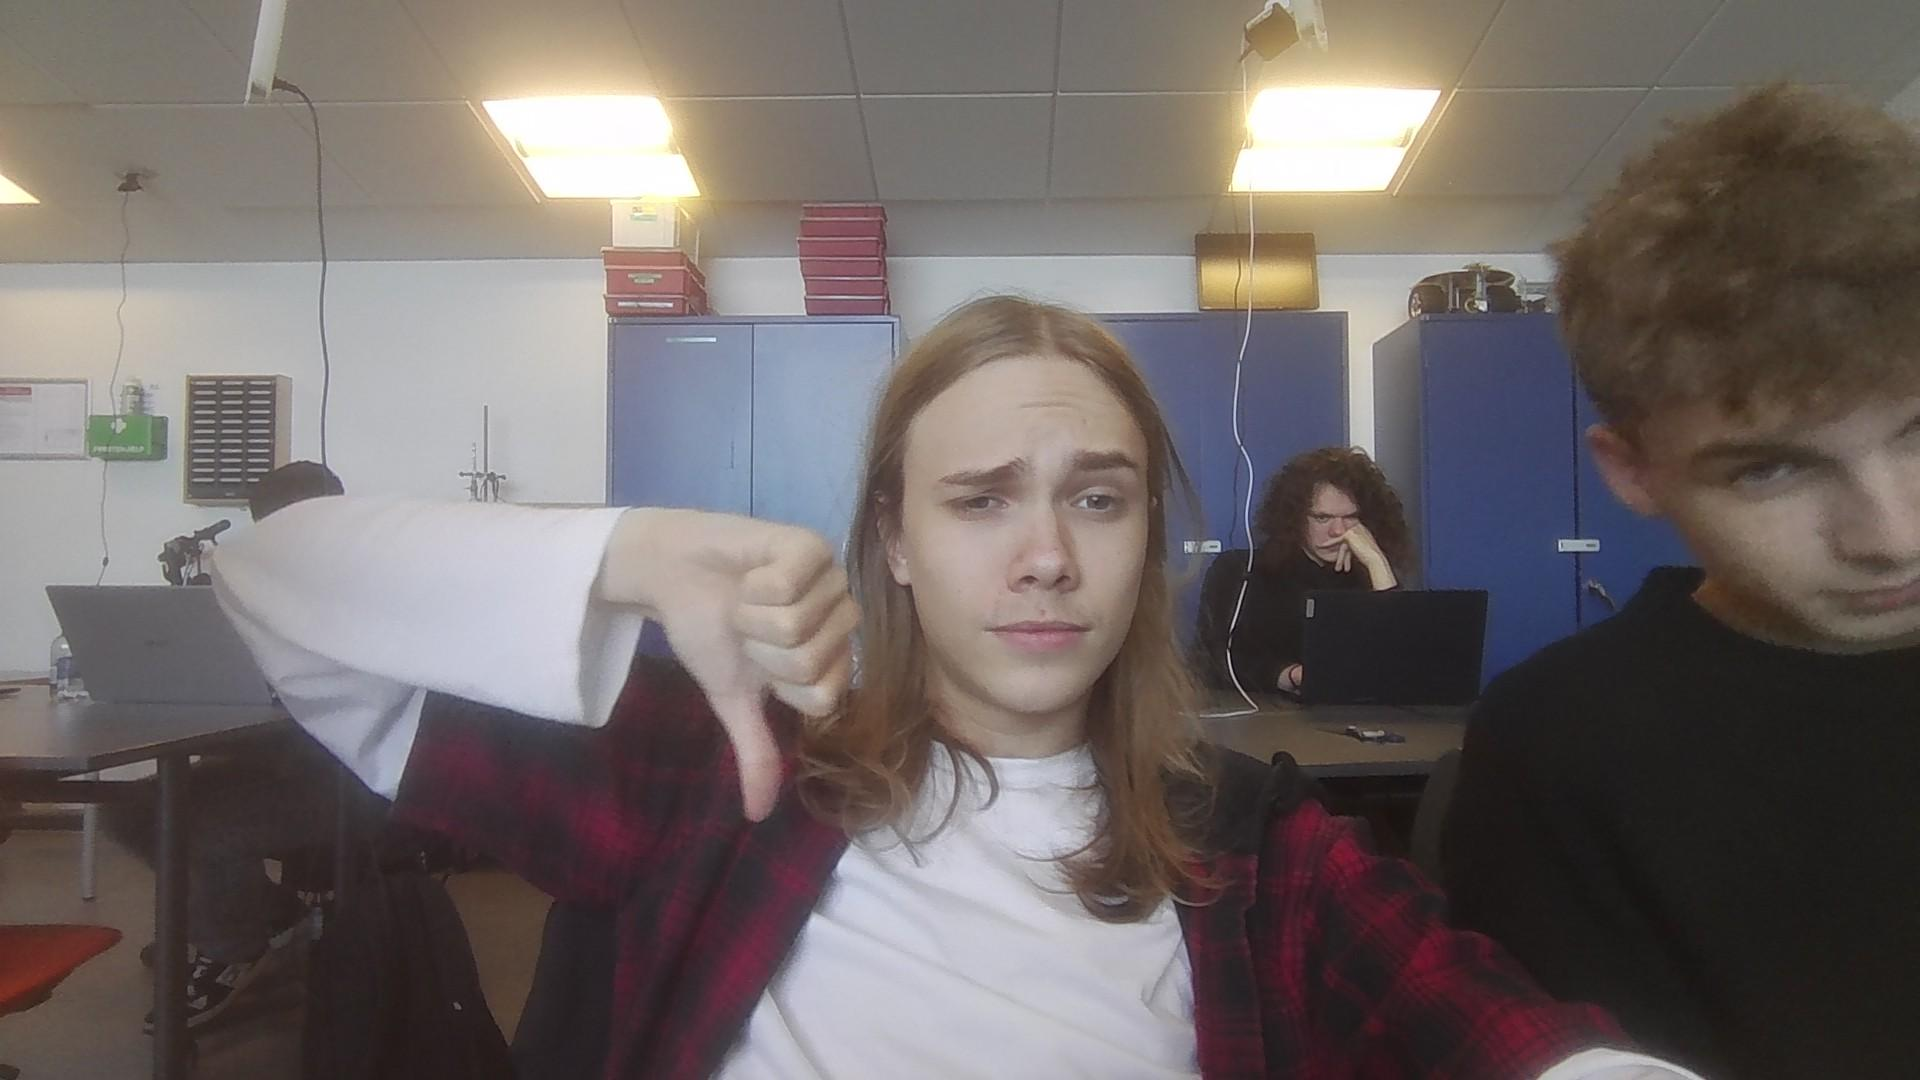thumbs down: (636, 504, 860, 829)
